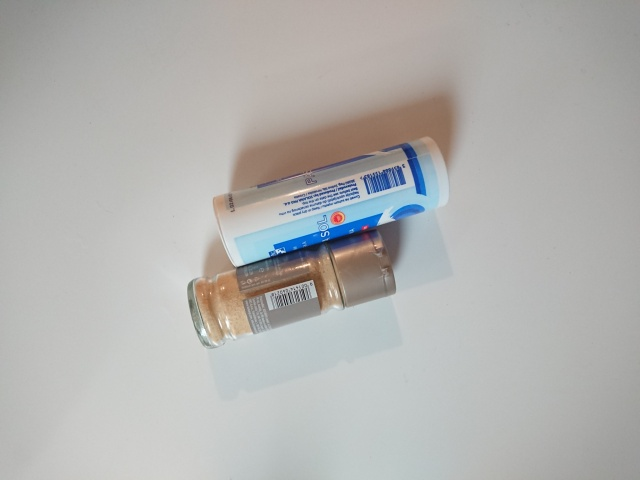Kotanyi Garlic Granules 70g: (184, 227, 399, 352)
Solana Pag Fine Sea Salt 250g: (209, 133, 455, 272)
